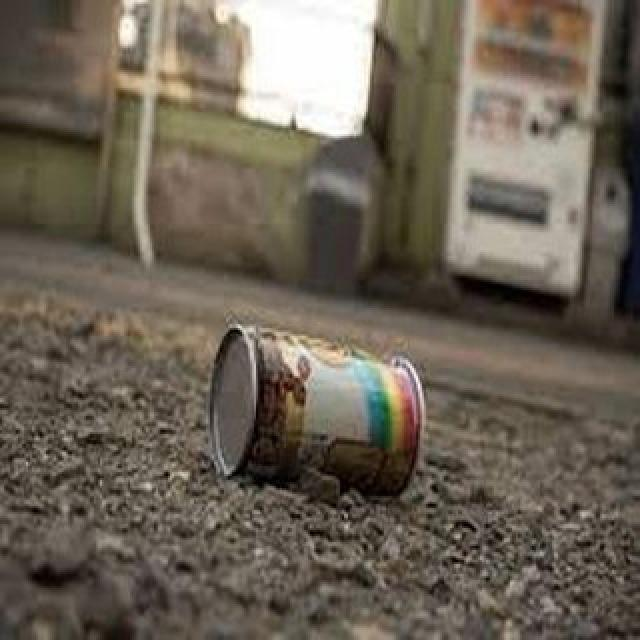can: (207, 323, 426, 517)
